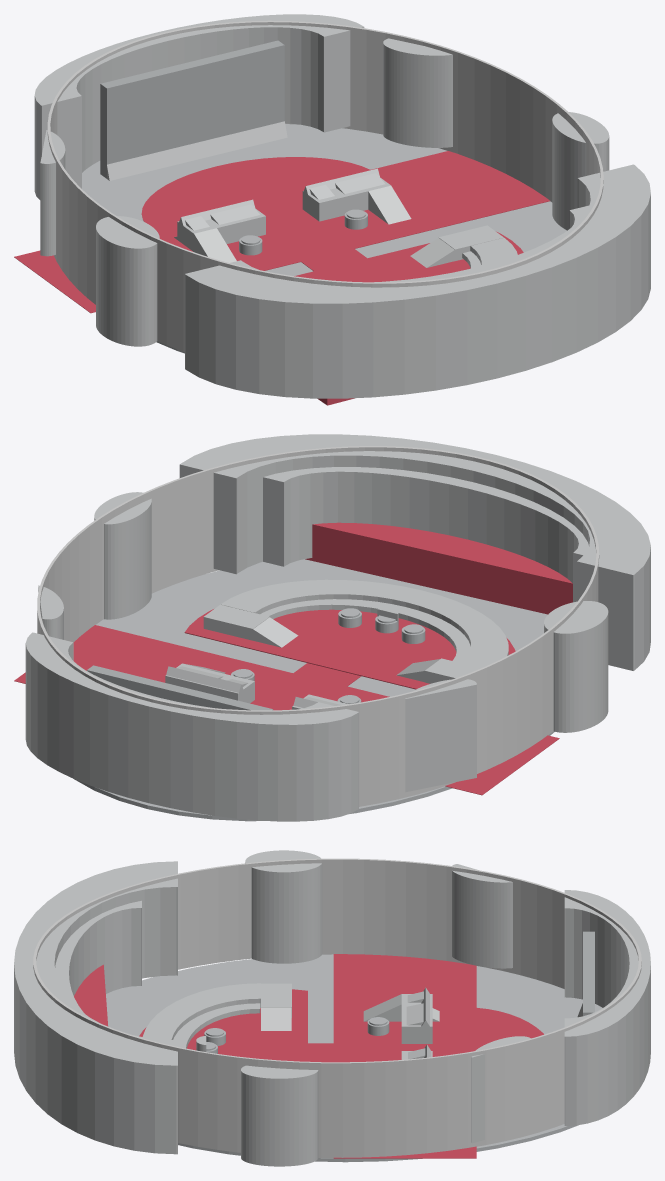
The model's file is bridge.glb.
3 views of the same model, one above another, from view 1: azimuth 30°, elevation 25°; view 2: azimuth 150°, elevation 25°; view 3: azimuth 270°, elevation 25° (orthographic). The views are drawn at different scales.
Parts seen in each view (by area): view 1: Mesh_Mesh_head_geo.001_lambert2SG.001; view 2: Mesh_Mesh_head_geo.001_lambert2SG.001; view 3: Mesh_Mesh_head_geo.001_lambert2SG.001.
Boxes of the visible parts, left/top/right/bottom form: Mesh_Mesh_head_geo.001_lambert2SG.001: left=14, top=14, right=650, bottom=405; Mesh_Mesh_head_geo.001_lambert2SG.001: left=14, top=434, right=650, bottom=821; Mesh_Mesh_head_geo.001_lambert2SG.001: left=14, top=850, right=650, bottom=1166.
Size of the model in its own units: 16.32 by 3.5 by 19.54.
